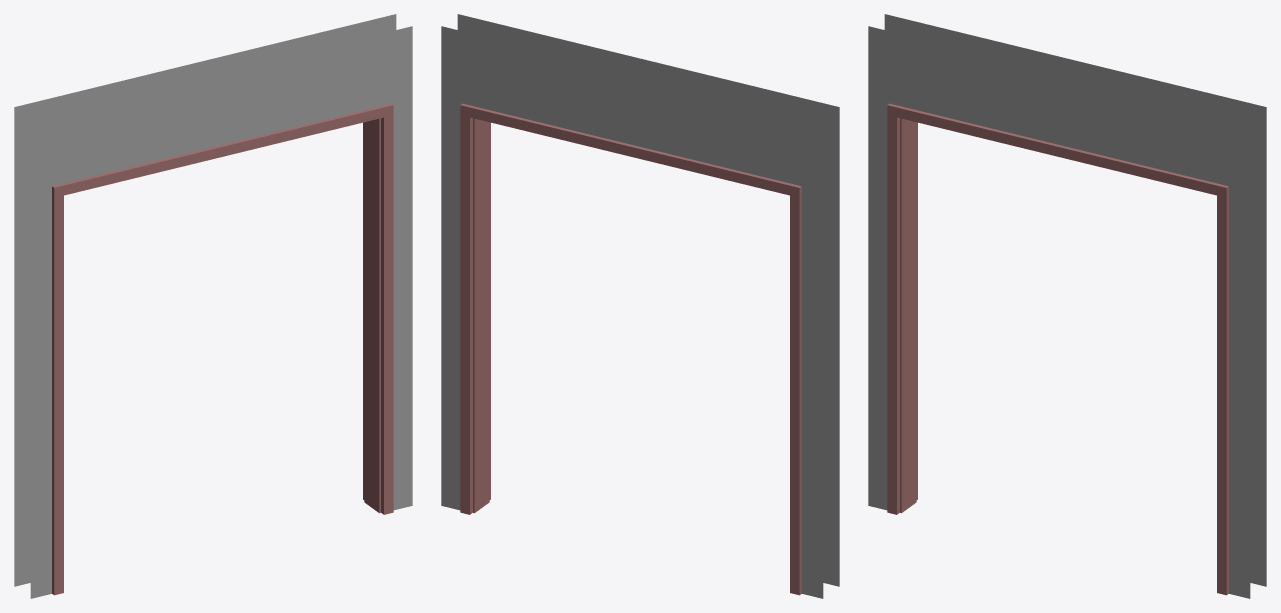
The model's file is 15Wall200x240-Door170x200.fbx.
The picture shows the model from 3 angles, left to right: view 1: azimuth 30°, elevation 25°; view 2: azimuth 150°, elevation 25°; view 3: azimuth 330°, elevation 25°; orthographic projection.
Visible parts, largest first — view 1: outdoorWallDoorframe, DoorFrame2, indoorWallDoorframe; view 2: indoorWallDoorframe, DoorFrame2, outdoorWallDoorframe; view 3: outdoorWallDoorframe, DoorFrame2, indoorWallDoorframe.
Boxes of the visible parts, <box> form: outdoorWallDoorframe: <box>30,26,412,598</box>; DoorFrame2: <box>52,103,393,595</box>; indoorWallDoorframe: <box>14,14,396,586</box>; indoorWallDoorframe: <box>441,26,823,598</box>; DoorFrame2: <box>460,103,801,595</box>; outdoorWallDoorframe: <box>457,14,839,586</box>; outdoorWallDoorframe: <box>868,26,1250,598</box>; DoorFrame2: <box>887,103,1228,595</box>; indoorWallDoorframe: <box>884,14,1266,586</box>.
Bounding box in the file's own units: 2 × 2.4 × 0.19.
